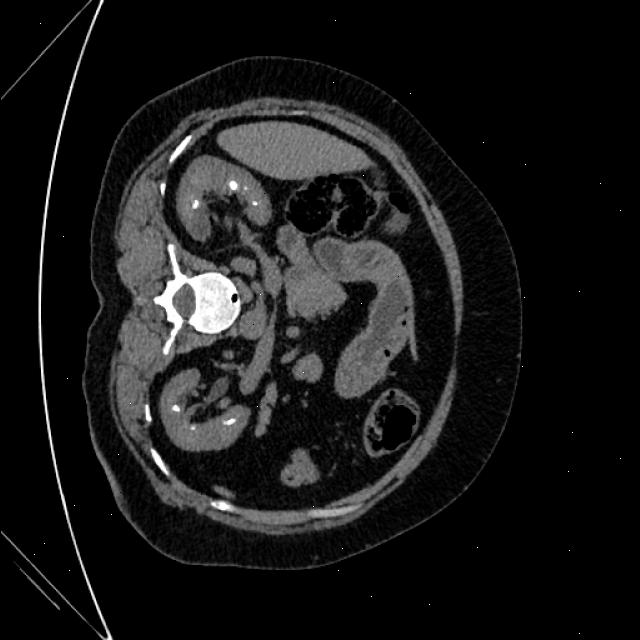kidneystone: (228, 180, 238, 191), (223, 419, 236, 426), (192, 199, 199, 209), (172, 404, 179, 412), (252, 200, 258, 205), (189, 425, 196, 429)
